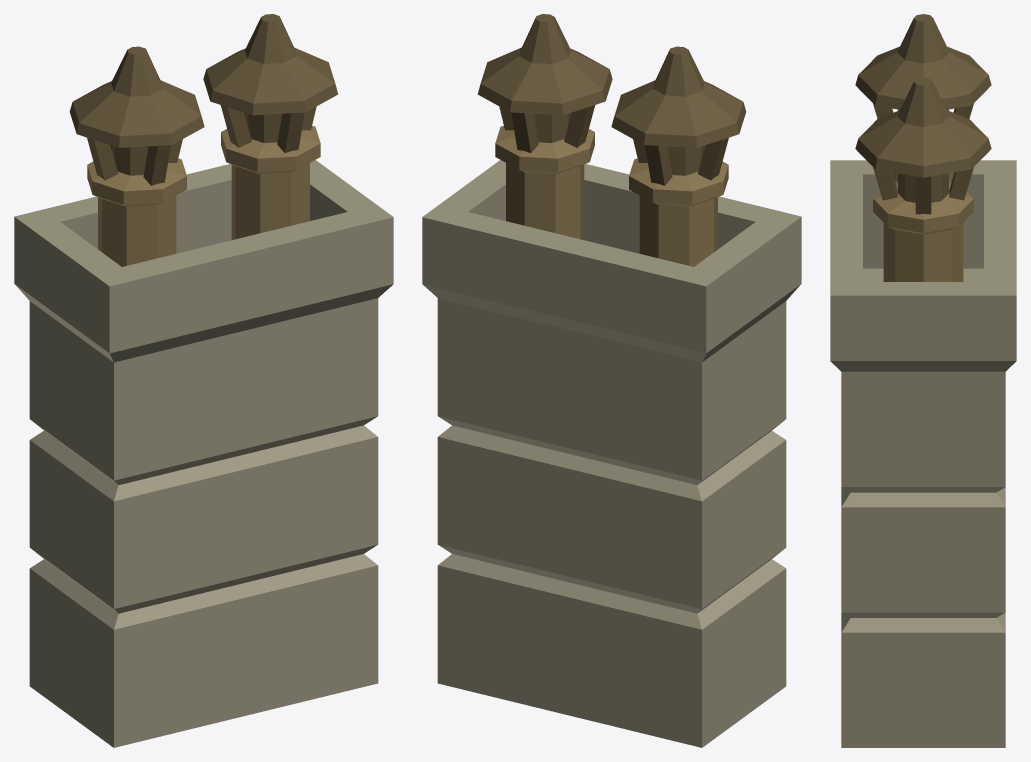
Rendered from Chimney_2.fbx.
The picture shows the model from 3 angles, left to right: view 1: azimuth 30°, elevation 25°; view 2: azimuth 150°, elevation 25°; view 3: azimuth 270°, elevation 25°; orthographic projection. The views are drawn at different scales.
Visible parts, largest first — view 1: Chimney_2; view 2: Chimney_2; view 3: Chimney_2.
Boxes of the visible parts, box(x1,y1,x2,y2) form: Chimney_2: box(14, 14, 393, 747); Chimney_2: box(422, 14, 801, 747); Chimney_2: box(830, 14, 1016, 747).
Bounding box in the file's own units: 81.08 × 177 × 47.2.
